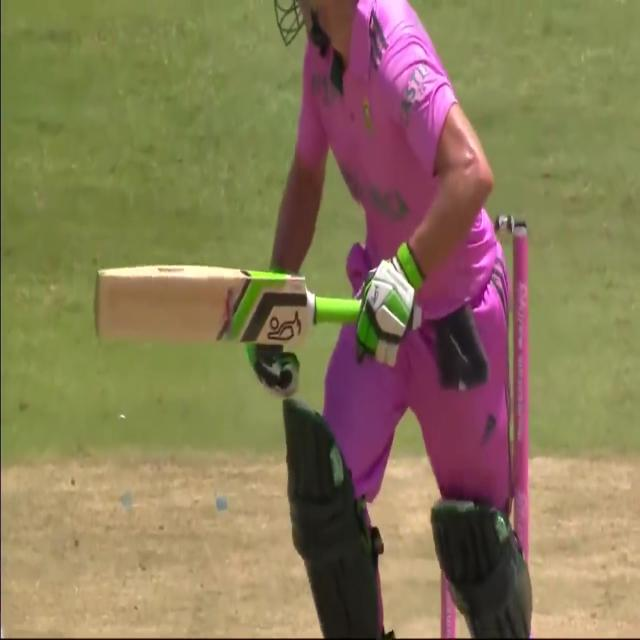Ball: (217, 0, 547, 635)
